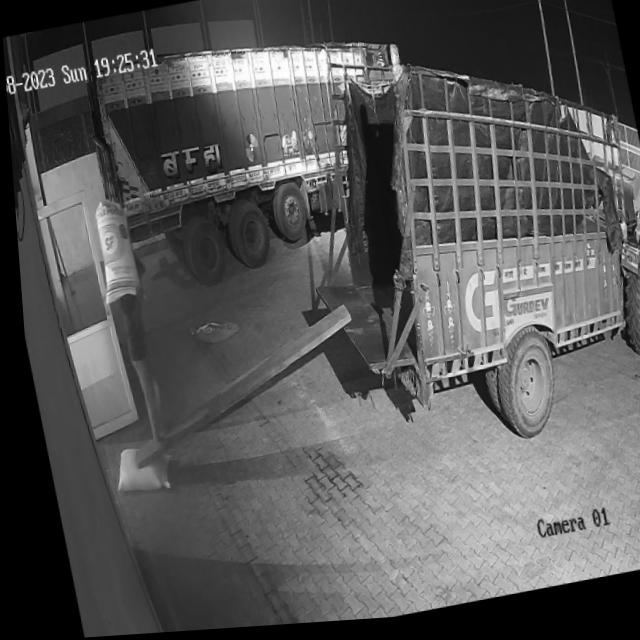sack: (83, 197, 138, 305), (103, 441, 168, 499)
